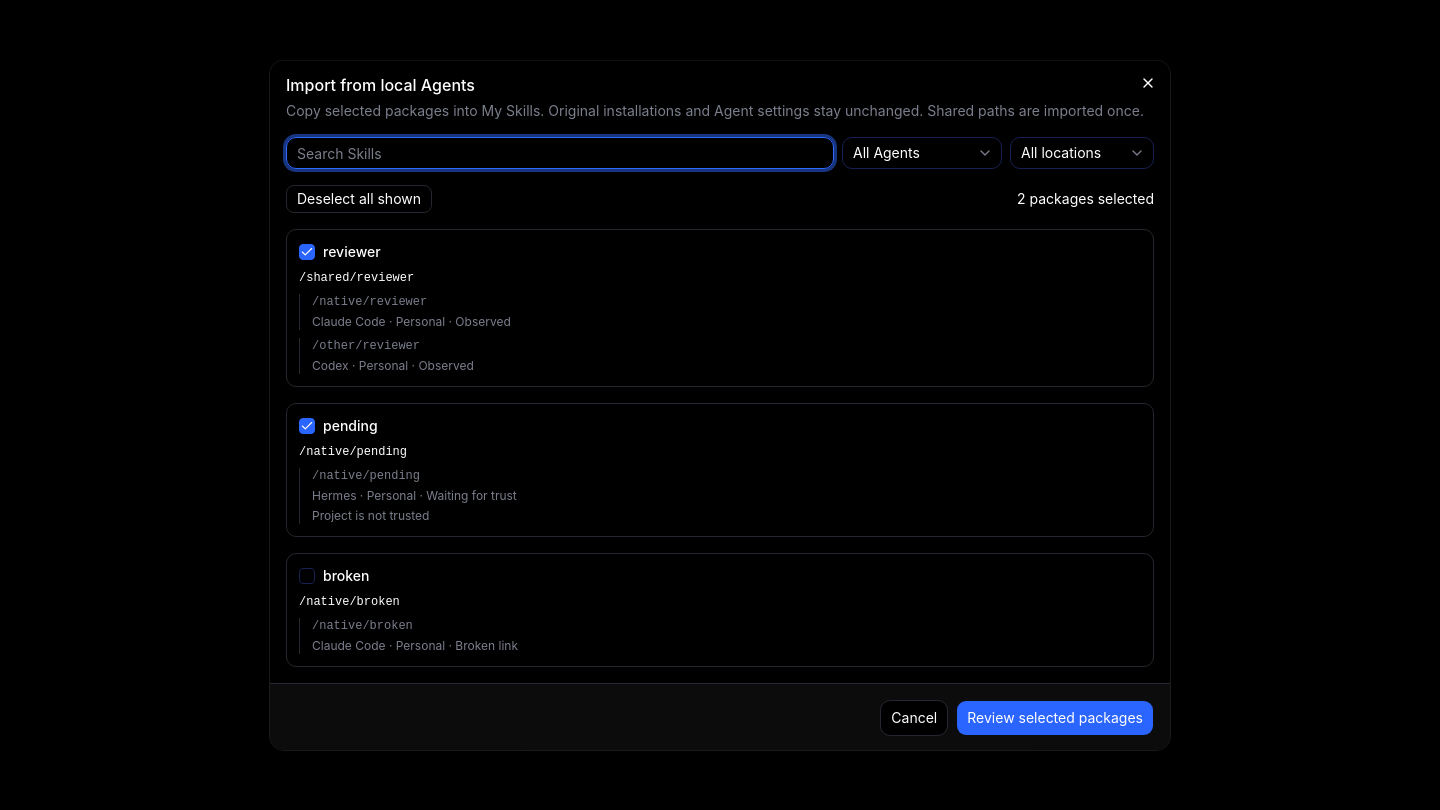
Test: SkillImportDialog › groups physical aliases, selects readable native-restricted packages and excludes owned deployments
The width and height of the screenshot is (1440, 810).
Expected: the text "2 packages selected" is shown, [1017,189,1154,209]
Expected: the text "Project is not trusted" is shown, [312,508,430,523]
Step 1. Click the button "Review selected packages" → point(1055, 718), box [956,700,1154,736]
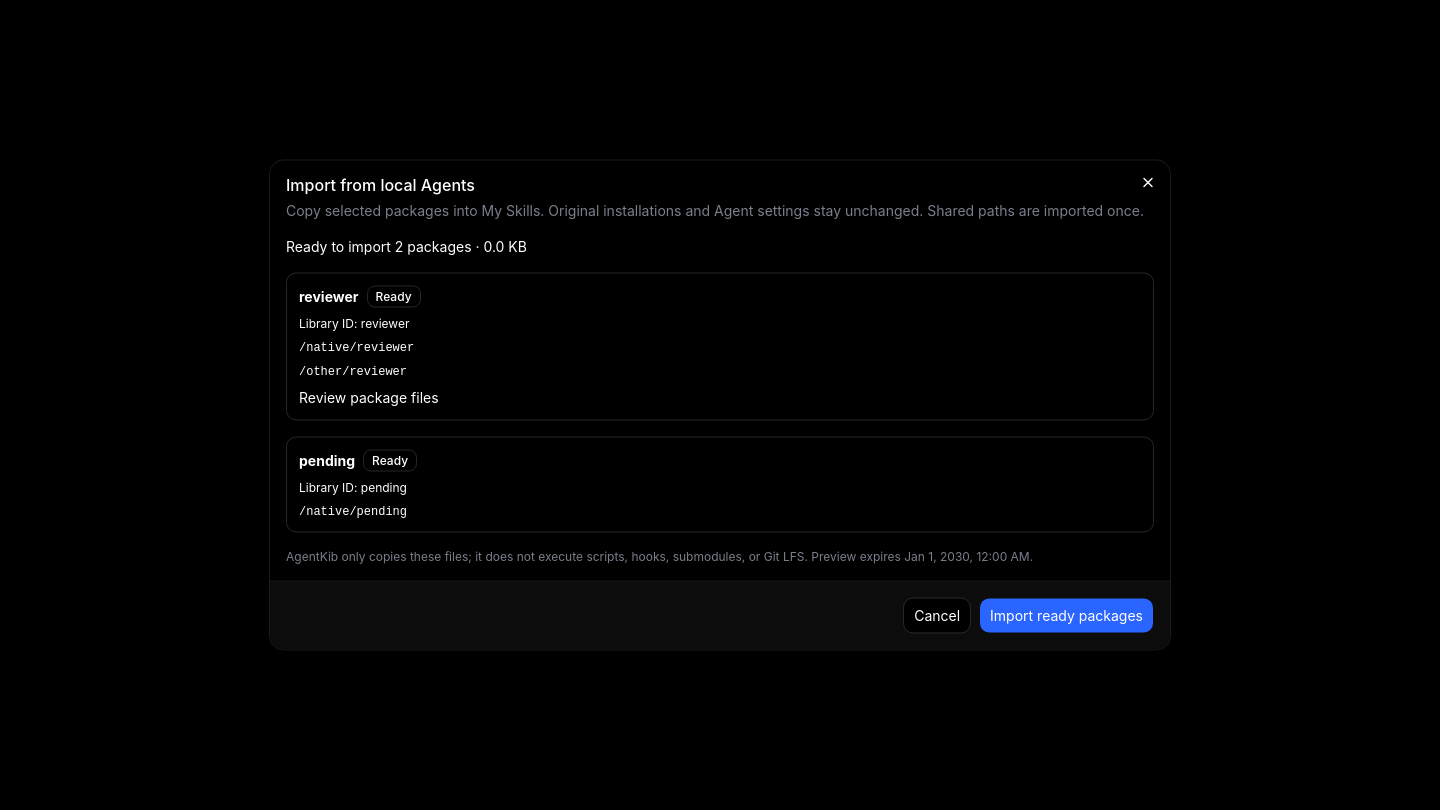
Result: the text "Ready to import 2 packages · 0.0 KB" is shown at [286,238,527,254]
